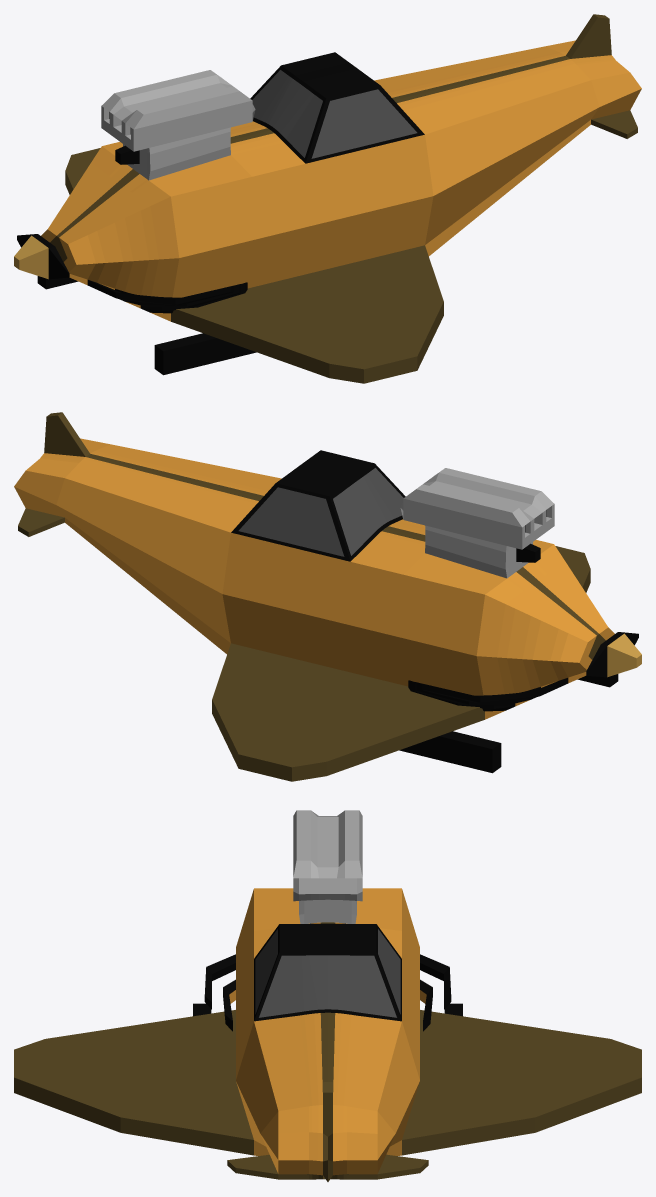
The model's file is MusclePlane.fbx.
3 views of the same model, one above another, from view 1: azimuth 30°, elevation 25°; view 2: azimuth 150°, elevation 25°; view 3: azimuth 270°, elevation 25° (orthographic). The views are drawn at different scales.
Parts seen in each view (by area): view 1: Cube, Cube.001; view 2: Cube, Cube.001; view 3: Cube.
Boxes of the visible parts, x1,y1,x2,y2 form: Cube: (37,14,641,383); Cube.001: (14,234,69,279); Cube: (14,412,618,781); Cube.001: (586,632,641,677); Cube: (14,810,641,1181).
Size of the model in its own units: 1012 by 349 by 849.
